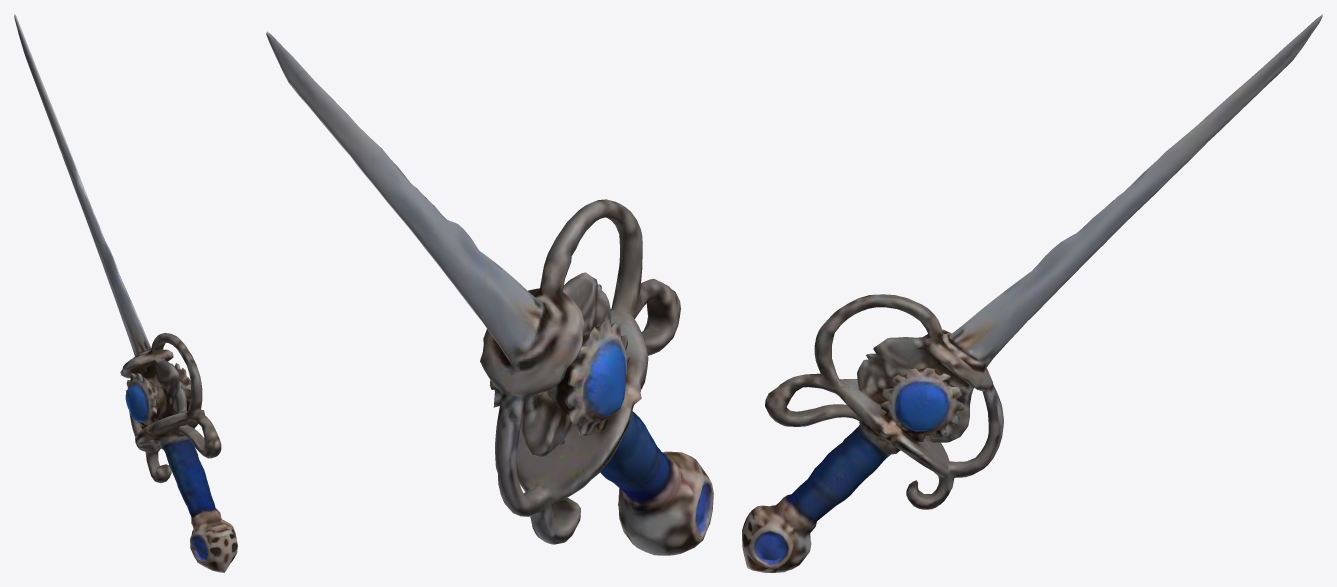
Rendered from weap_mith.glb.
3 views of the same model, side by side, from view 1: azimuth 30°, elevation 25°; view 2: azimuth 150°, elevation 25°; view 3: azimuth 270°, elevation 25° (orthographic). The views are drawn at different scales.
Parts seen in each view (by area): view 1: tripo_node_1cffc6b8-63e7-4176-81b9-e8ca260e9f13; view 2: tripo_node_1cffc6b8-63e7-4176-81b9-e8ca260e9f13; view 3: tripo_node_1cffc6b8-63e7-4176-81b9-e8ca260e9f13.
Part boxes in pixels (<box>): tripo_node_1cffc6b8-63e7-4176-81b9-e8ca260e9f13: <box>14,14,237,572</box>; tripo_node_1cffc6b8-63e7-4176-81b9-e8ca260e9f13: <box>266,31,713,555</box>; tripo_node_1cffc6b8-63e7-4176-81b9-e8ca260e9f13: <box>742,14,1322,572</box>.
Bounding box in the file's own units: 0.1145 × 0.75 × 0.7121.
1 material, 1 textured.
